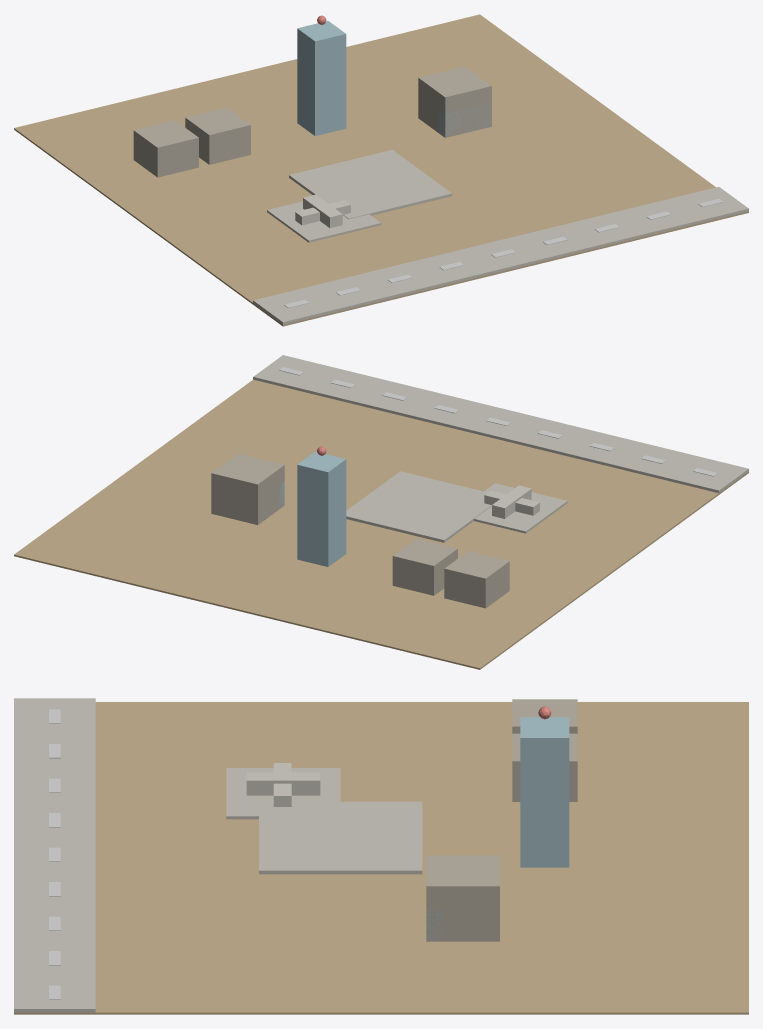
The model's file is stage_06.glb.
The picture shows the model from 3 angles, top to bottom: view 1: azimuth 30°, elevation 25°; view 2: azimuth 150°, elevation 25°; view 3: azimuth 270°, elevation 25°; orthographic projection. The views are drawn at different scales.
Visible parts, largest first — view 1: geometry_0; view 2: geometry_0; view 3: geometry_0.
Boxes of the visible parts, x1,y1,x2,y2 form: geometry_0: (14,14,748,326); geometry_0: (14,355,748,669); geometry_0: (14,698,748,1014).
Size of the model in its own units: 9 by 2.06 by 9.
